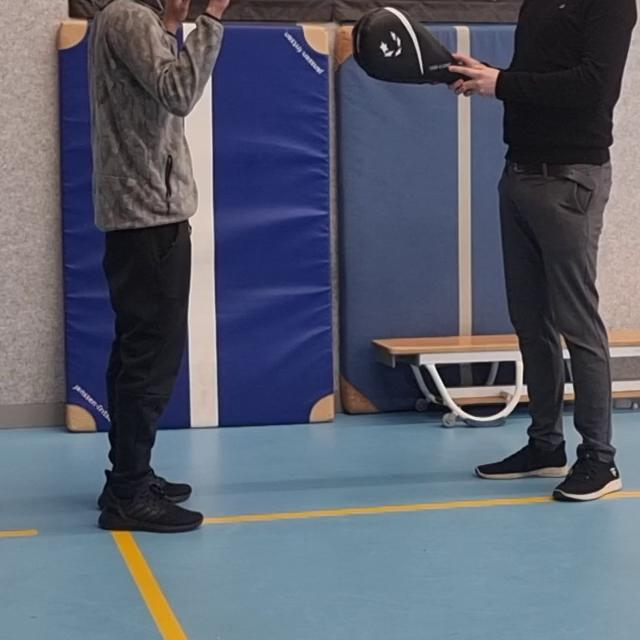paddle: (354, 7, 468, 85)
